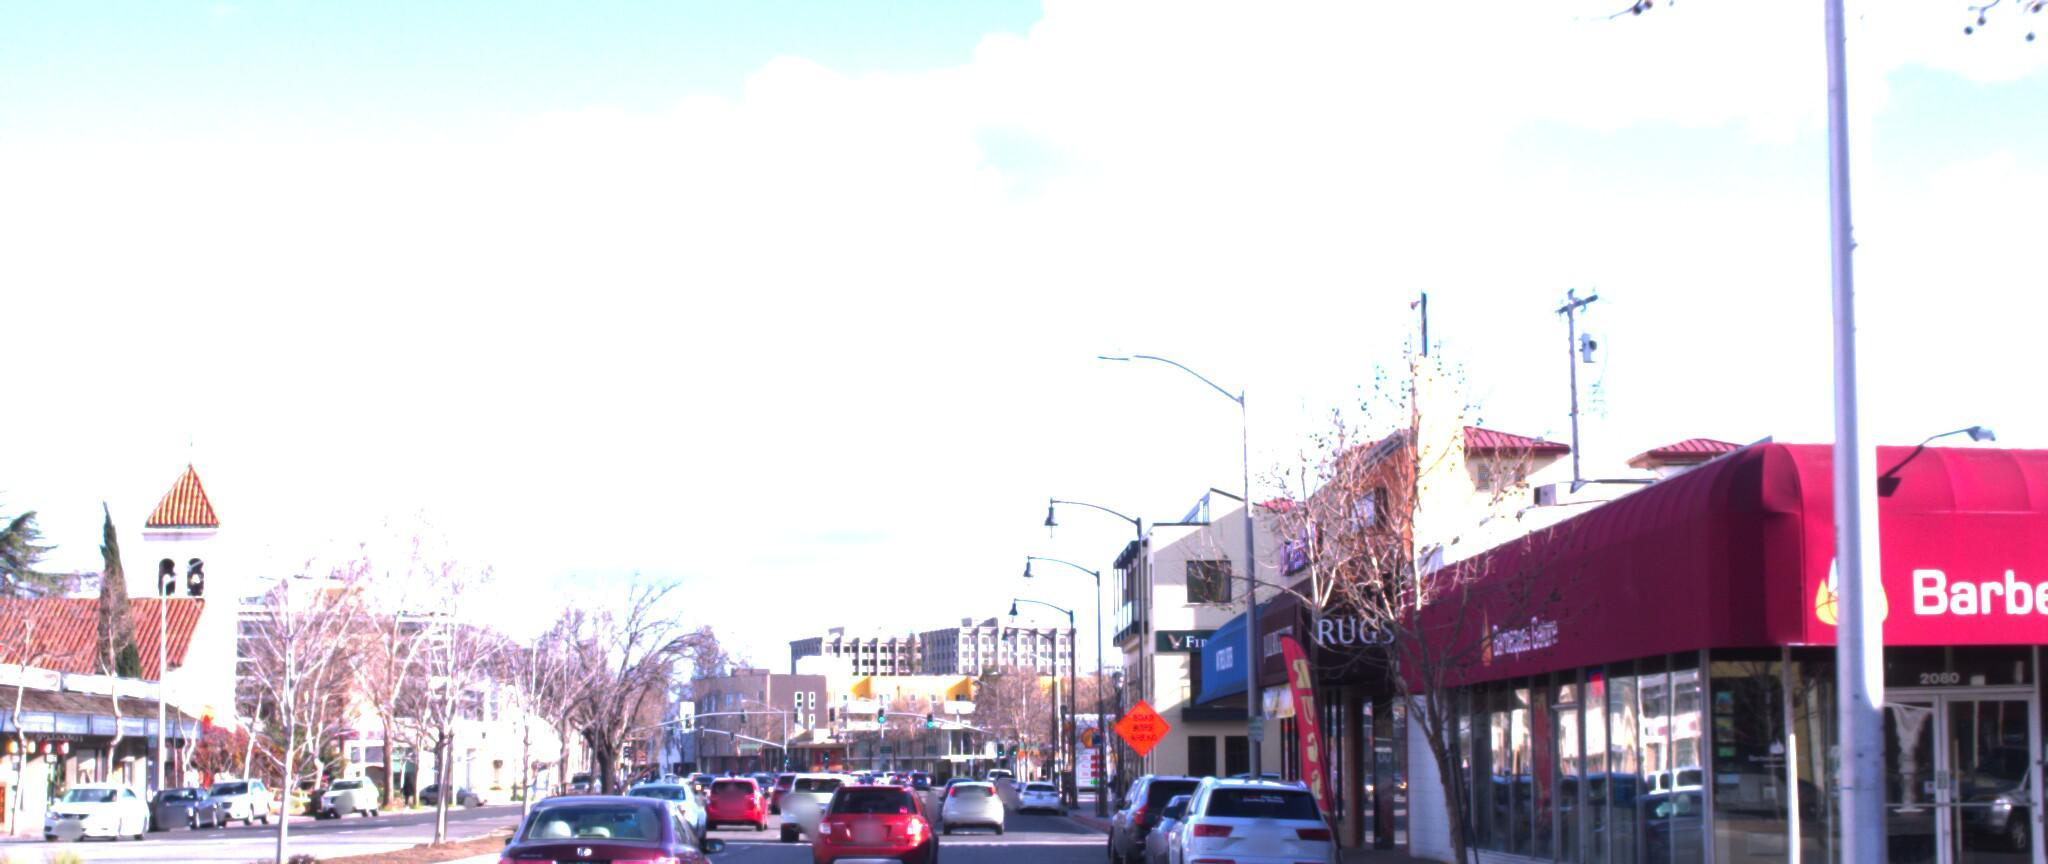car: (500, 754, 741, 864), (1157, 750, 1340, 864), (1108, 747, 1236, 857), (807, 760, 940, 864), (37, 760, 167, 820), (628, 748, 724, 824), (777, 749, 859, 817), (944, 752, 1006, 812)
